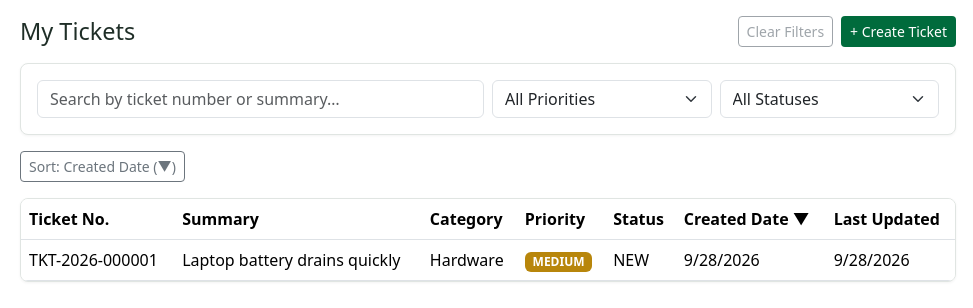
Test: TicketsPlaceholder (My Tickets) › Sort button opens a dropdown and selecting a field sorts by it
The width and height of the screenshot is (973, 308).
Expected: the text "TKT-2026-000001" is shown, [21, 240, 174, 281]
Click the button "Sort: Created Date (▼)" at (102, 166), box [20, 151, 185, 182]
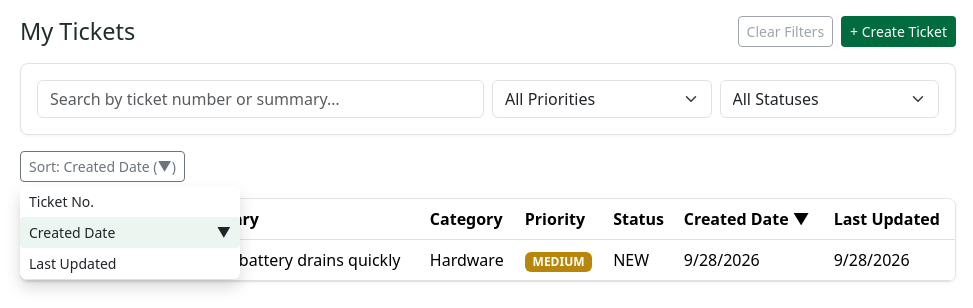
Click the menu item "Ticket No." at (130, 202), box [20, 186, 240, 217]
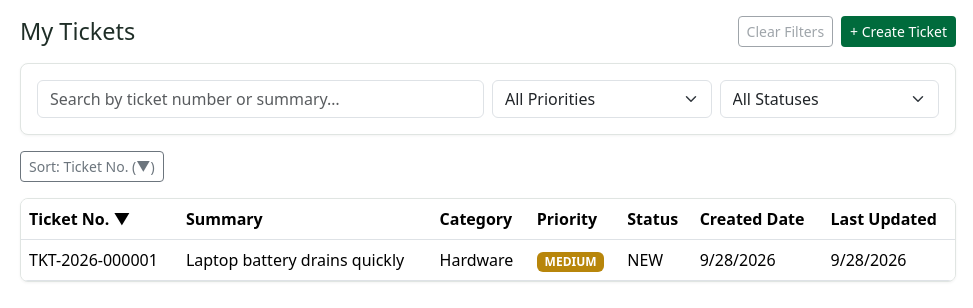
Expected: the button "Sort: Ticket No. (▼)" is shown, [20, 151, 164, 182]
